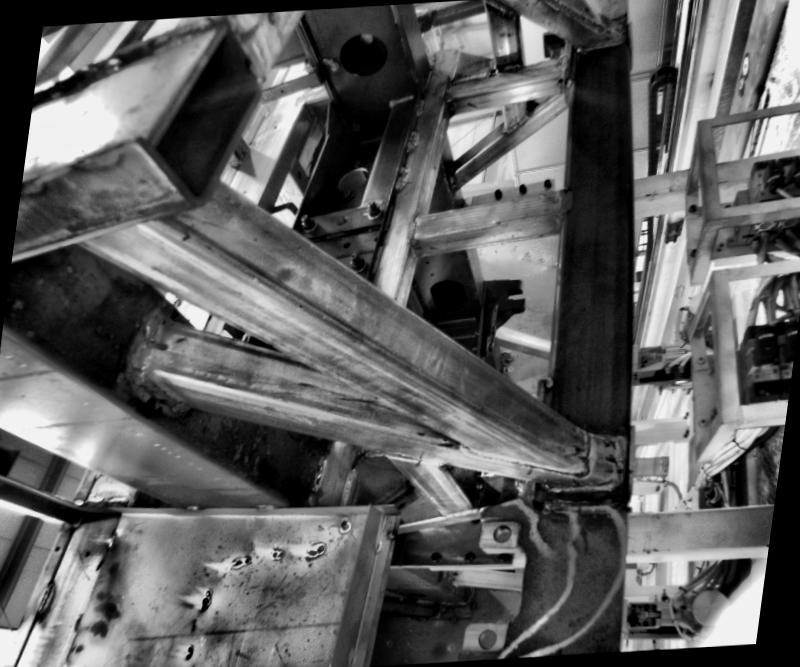bolt: (364, 196, 384, 218), (300, 209, 320, 229), (348, 249, 368, 269)
bracket: (473, 270, 530, 362)
hole: (335, 29, 387, 76), (426, 274, 474, 312), (335, 164, 369, 190), (476, 626, 499, 646), (489, 521, 512, 539), (149, 336, 173, 352), (332, 210, 350, 223), (83, 548, 92, 558), (341, 239, 350, 247), (54, 542, 61, 551), (412, 243, 422, 249), (429, 164, 437, 170)
welding: (140, 314, 172, 381), (541, 480, 635, 496), (618, 436, 632, 490), (36, 578, 57, 614), (586, 426, 598, 478), (560, 188, 576, 214), (182, 502, 204, 516), (396, 164, 410, 185), (408, 213, 418, 242), (254, 503, 282, 511), (408, 128, 419, 148), (108, 534, 118, 546)
